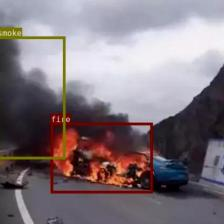fire: (50, 122, 152, 193)
smoke: (0, 36, 65, 158)
